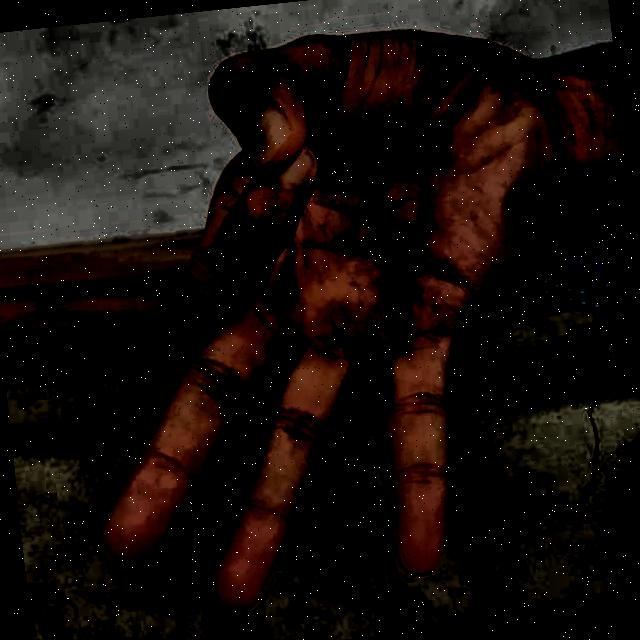Fa: (31, 0, 617, 640)
